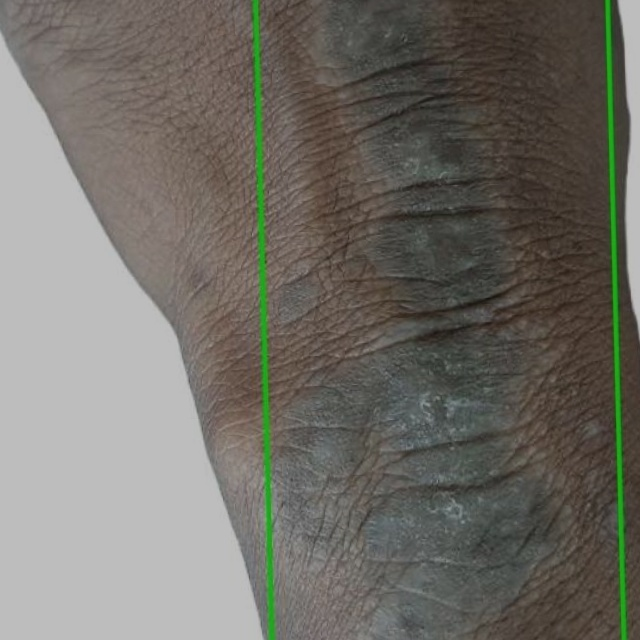Eczema: (0, 0, 272, 639)
